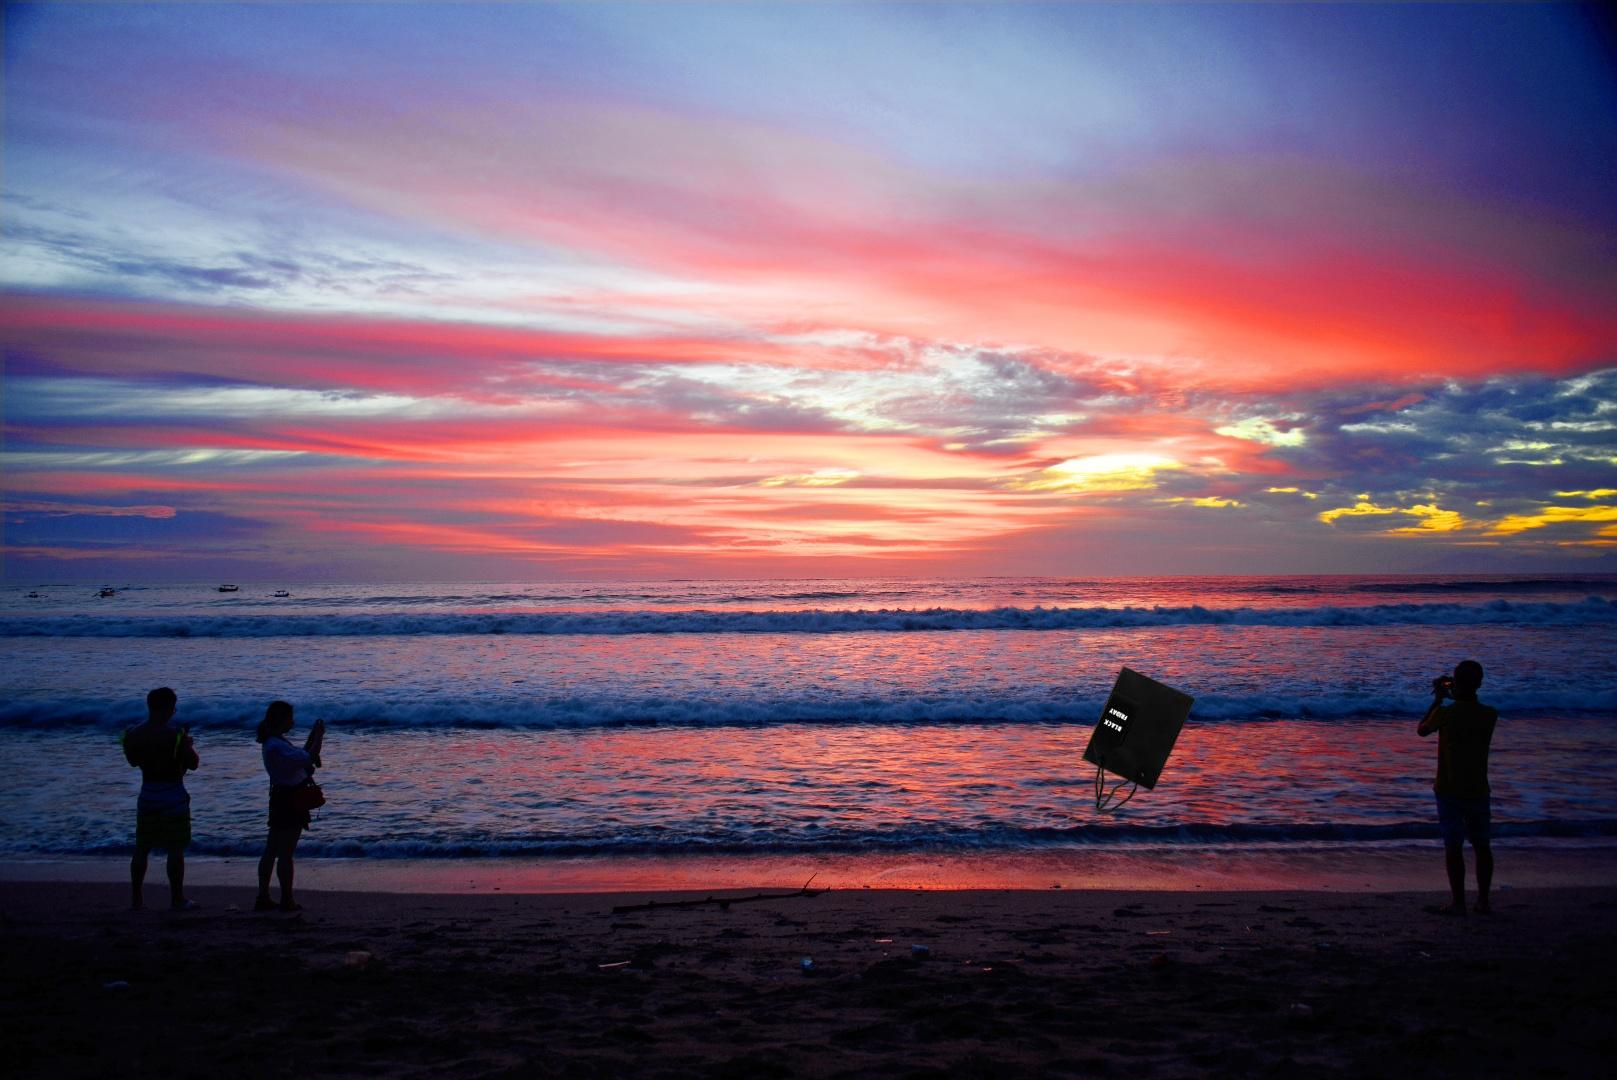paper-bag: (1078, 665, 1198, 816)
